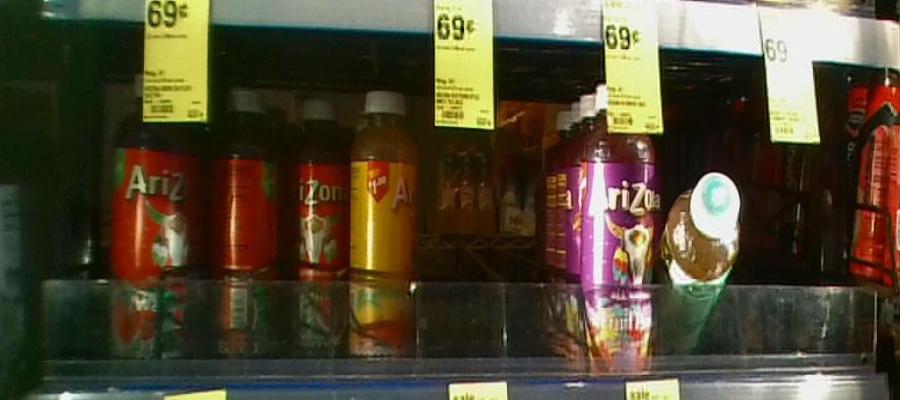bottle: (106, 68, 197, 376), (576, 69, 661, 372), (350, 84, 418, 371), (212, 87, 279, 370), (284, 91, 349, 365), (669, 170, 742, 376)
